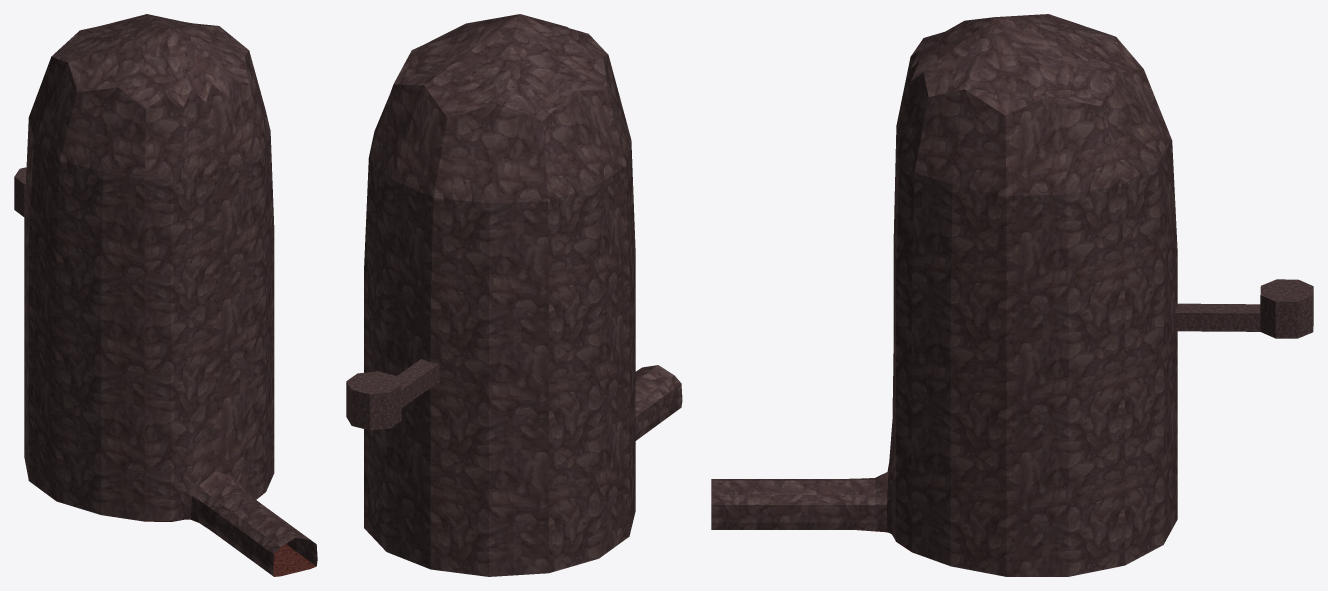
The model's file is NewMap.fbx.
3 renders of one model, left to right at view 1: azimuth 30°, elevation 25°; view 2: azimuth 150°, elevation 25°; view 3: azimuth 270°, elevation 25°, orthographic. The views are drawn at different scales.
Visible parts, largest first — view 1: Walls, Ground, Gun Room; view 2: Walls, Gun Room; view 3: Walls, Gun Room.
Part boxes in pixels (x1,y1,x2,y2): Walls: (24,14,317,576); Ground: (144,491,316,576); Gun Room: (14,167,26,216); Walls: (364,14,682,576); Gun Room: (346,359,439,430); Walls: (711,14,1177,576); Gun Room: (1174,279,1313,338).
Bounding box in the file's own units: 955 × 1940 × 2109.
